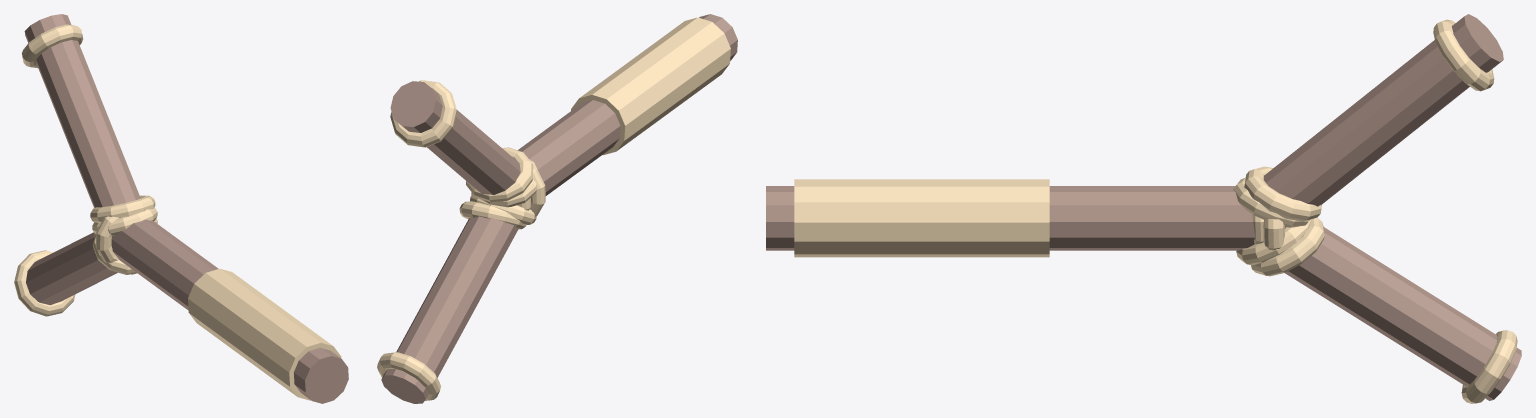
File: model_slingshot.fbx
3 views of the same model, side by side, from view 1: azimuth 30°, elevation 25°; view 2: azimuth 150°, elevation 25°; view 3: azimuth 270°, elevation 25° (orthographic). The views are drawn at different scales.
Visible parts, largest first — view 1: model; view 2: model; view 3: model.
Boxes of the visible parts, x1,y1,x2,y2 form: model: (14,14,348,403); model: (377,14,737,403); model: (766,14,1521,403).
Bounding box in the file's own units: 19.71 × 83.95 × 151.
